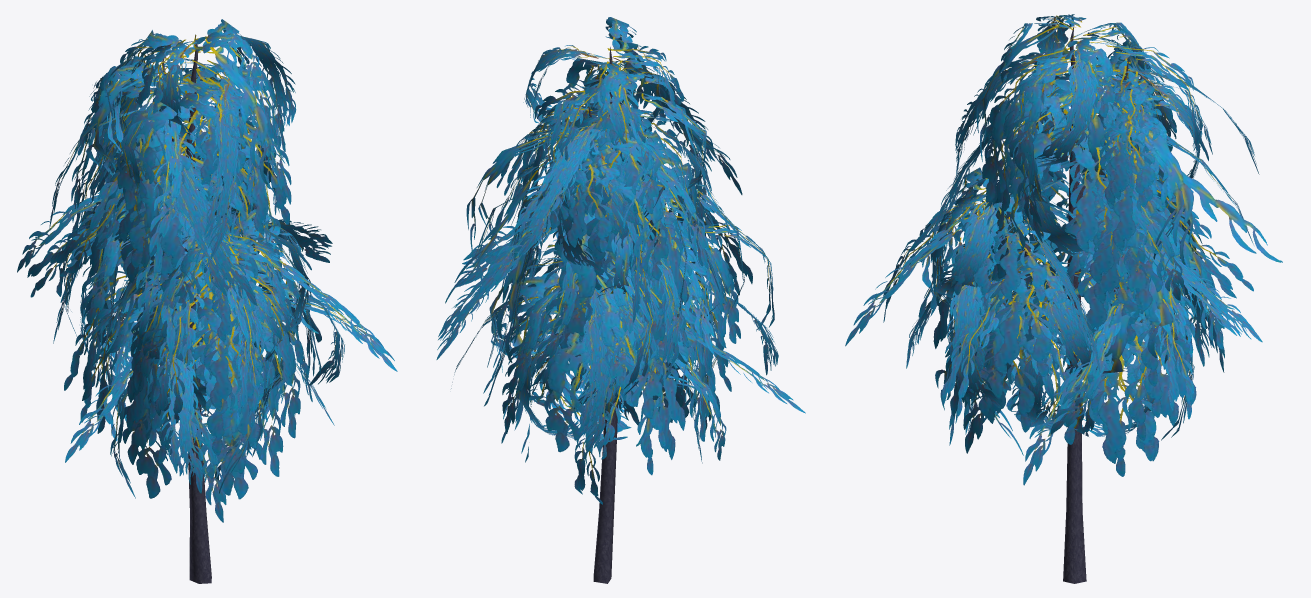
The picture shows the model from 3 angles, left to right: view 1: azimuth 30°, elevation 25°; view 2: azimuth 150°, elevation 25°; view 3: azimuth 270°, elevation 25°; orthographic projection. The views are drawn at different scales.
Parts seen in each view (by area): view 1: SM_FH_Willow_Sapling_01_LOD0; view 2: SM_FH_Willow_Sapling_01_LOD0; view 3: SM_FH_Willow_Sapling_01_LOD0.
Boxes of the visible parts, bbox=[...] form: SM_FH_Willow_Sapling_01_LOD0: bbox=[17, 19, 397, 583]; SM_FH_Willow_Sapling_01_LOD0: bbox=[436, 17, 805, 583]; SM_FH_Willow_Sapling_01_LOD0: bbox=[845, 14, 1282, 583].
Size of the model in its own units: 1.04 by 1.73 by 1.26.
Materials: 1 (1 with a texture image).
